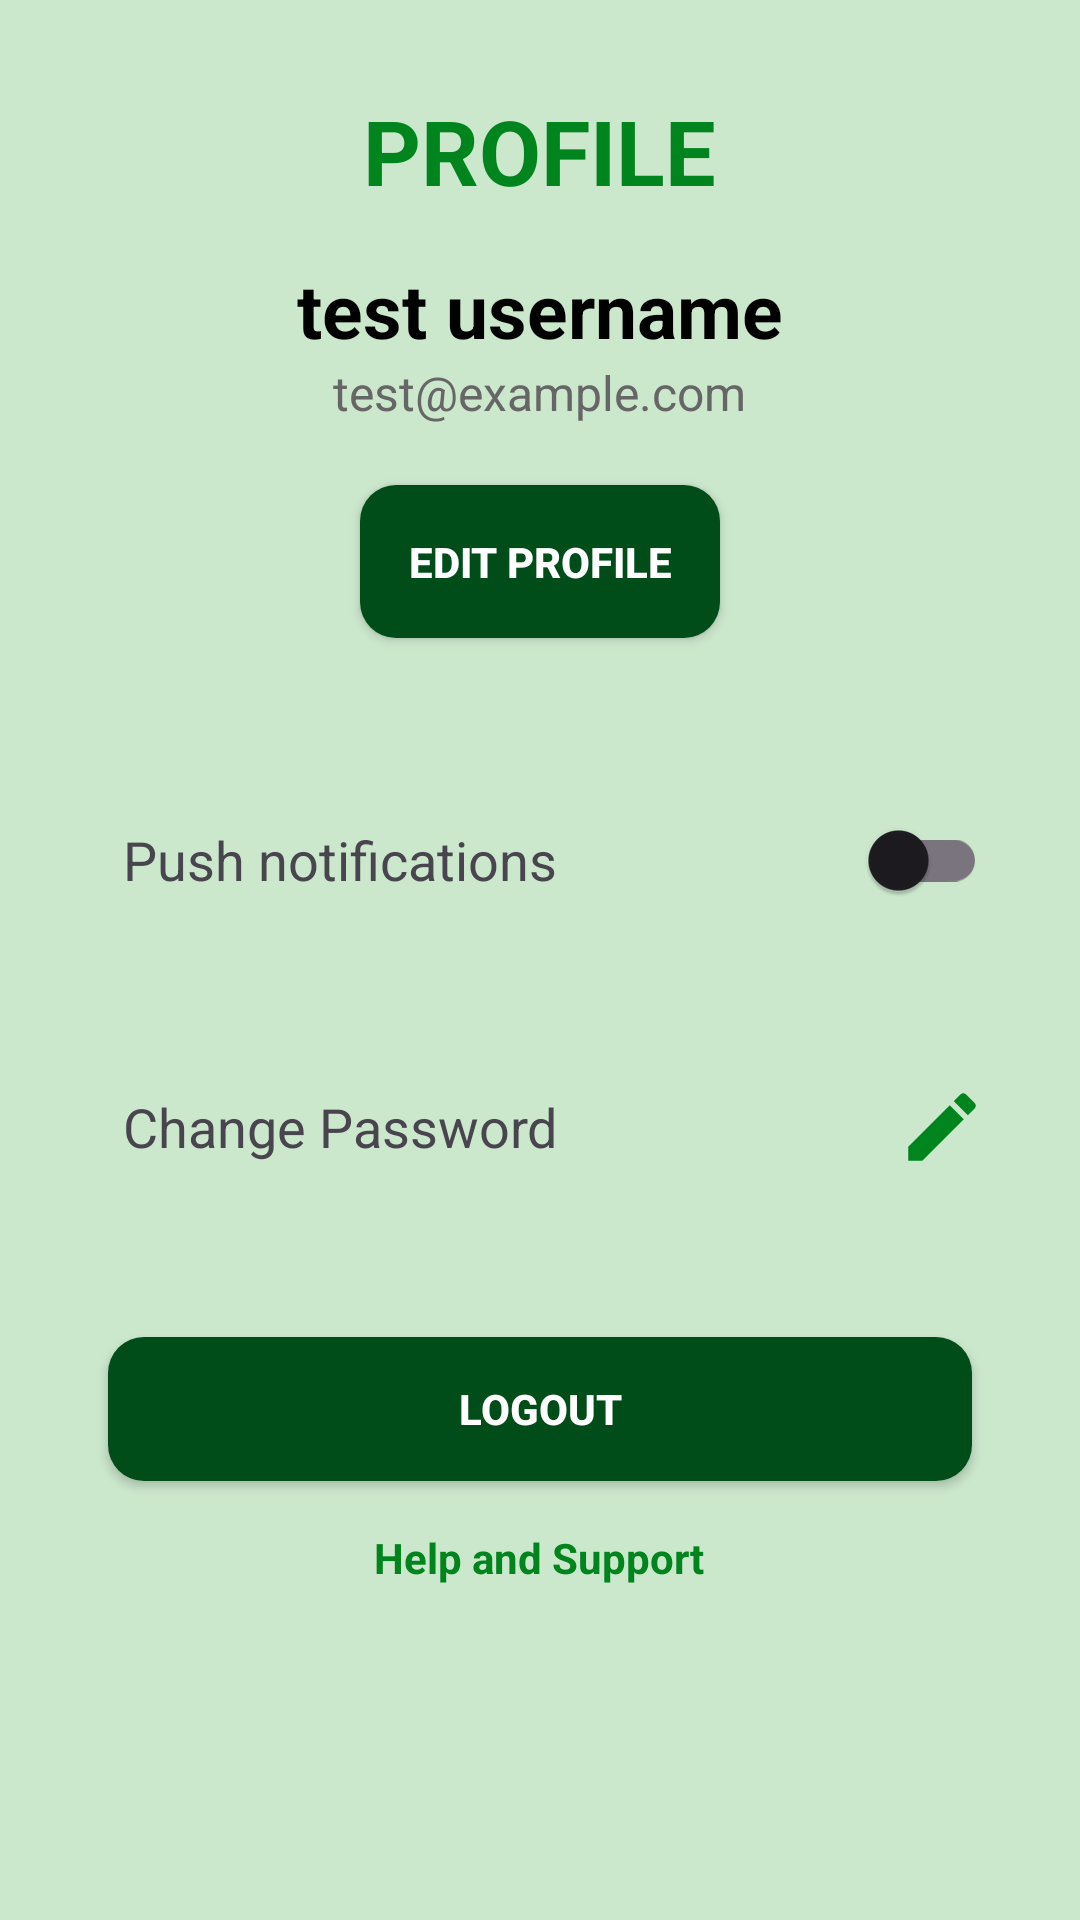

Screen size 1080*1920. Icon name, then its box in pixels as (x1, y1, x2, y2):
edit: (908, 1093, 976, 1161)
